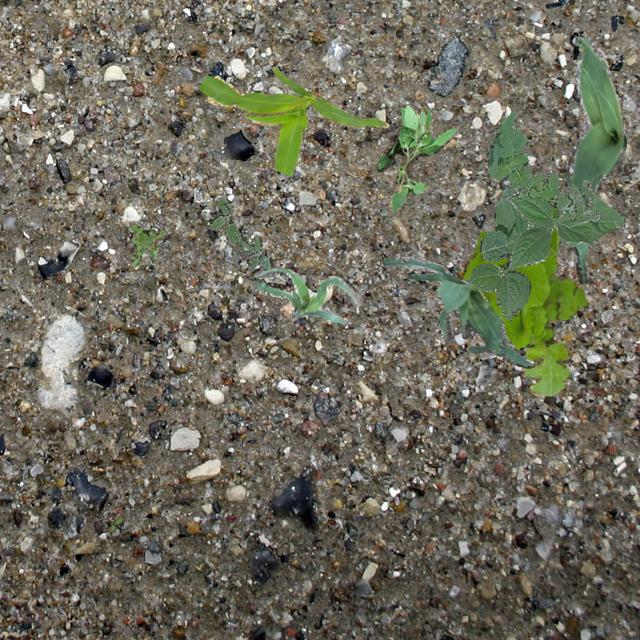crop: (198, 66, 388, 175), (382, 255, 532, 368), (564, 34, 626, 282), (506, 192, 622, 268), (250, 266, 360, 324)
weed: (462, 206, 586, 394), (486, 110, 600, 223), (463, 186, 532, 320), (373, 104, 458, 212), (208, 197, 270, 270), (128, 223, 166, 266)
